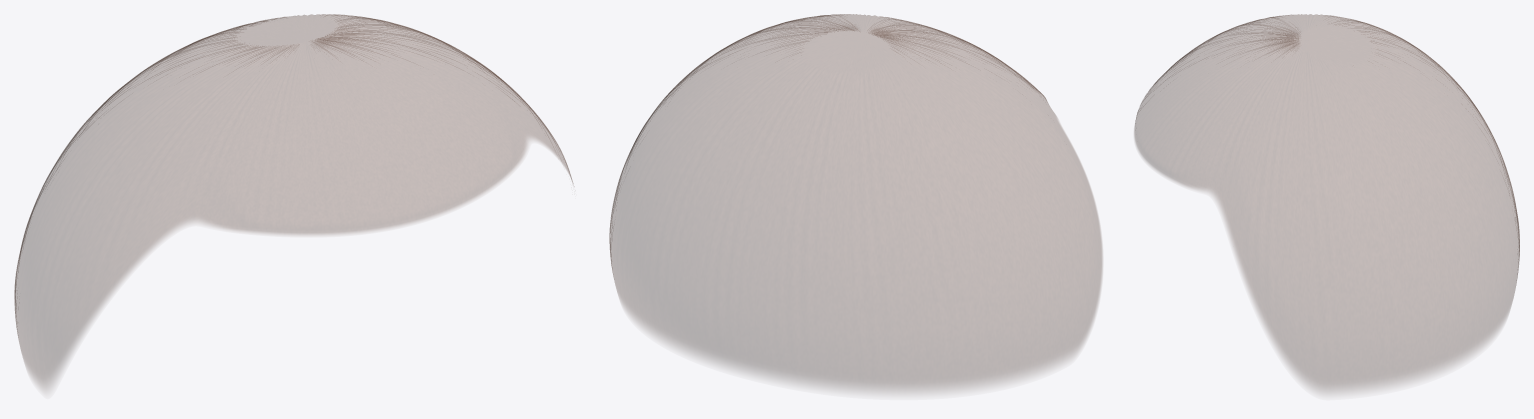
The model's file is Masculine-buzz-bucket252-hair.glb.
3 views of the same model, side by side, from view 1: azimuth 30°, elevation 25°; view 2: azimuth 150°, elevation 25°; view 3: azimuth 270°, elevation 25° (orthographic). The views are drawn at different scales.
Parts seen in each view (by area): view 1: 226 hair / Hair252 / buzz edge.001; view 2: 226 hair / Hair252 / buzz edge.001; view 3: 226 hair / Hair252 / buzz edge.001.
Boxes of the visible parts, x1,y1,x2,y2 form: 226 hair / Hair252 / buzz edge.001: (14,14,573,389); 226 hair / Hair252 / buzz edge.001: (609,14,1102,392); 226 hair / Hair252 / buzz edge.001: (1134,14,1519,392).
Bounding box in the file's own units: 0.9886 × 0.5747 × 0.761.
Materials: 1 (1 with a texture image).
